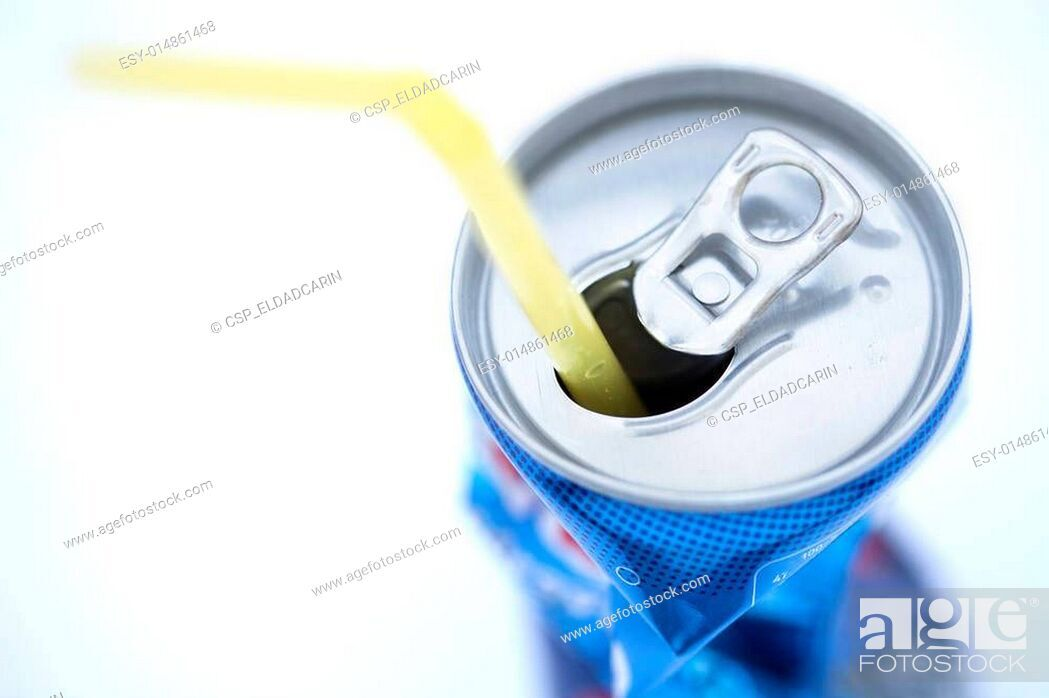can: (446, 61, 973, 698)
